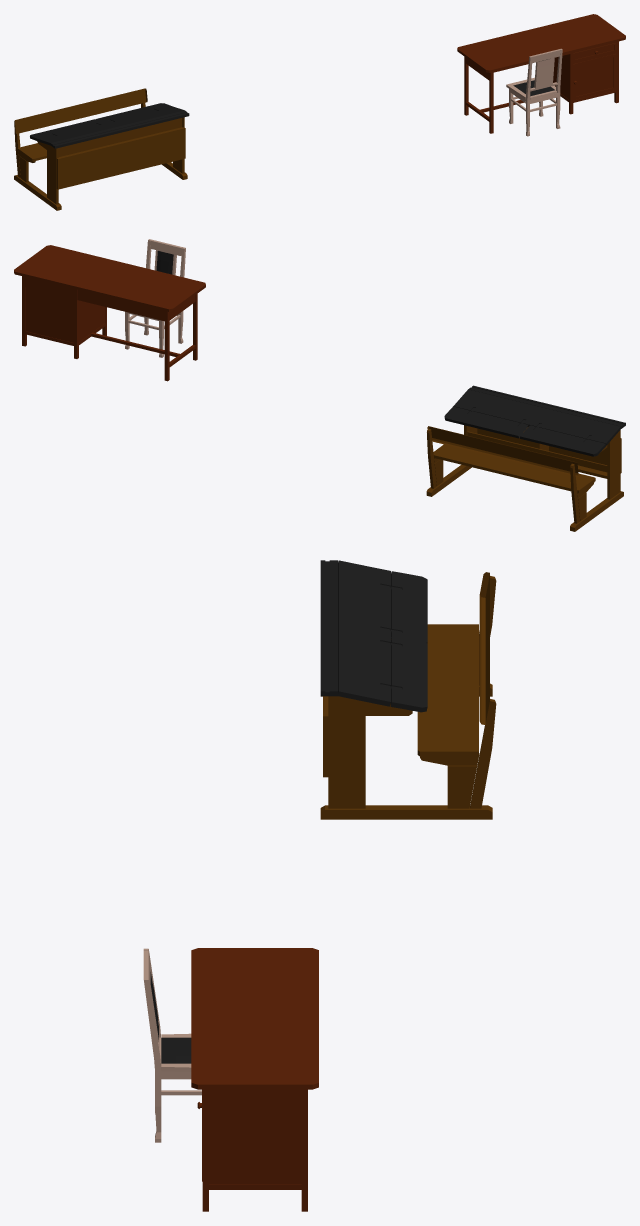
File: newRASST.glb
3 renders of one model, top to bottom at view 1: azimuth 30°, elevation 25°; view 2: azimuth 150°, elevation 25°; view 3: azimuth 270°, elevation 25°, orthographic. The views are drawn at different scales.
Visible parts, largest first — view 1: Плоскость.006, Плоскость.019, Плоскость.032; view 2: Плоскость.006, Плоскость.019, Плоскость.032; view 3: Плоскость.006, Плоскость.019, Плоскость.032.
Part boxes in pixels (left/top/right/bottom): Плоскость.006: left=14, top=88, right=189, bottom=210; Плоскость.019: left=457, top=14, right=625, bottom=133; Плоскость.032: left=506, top=48, right=562, bottom=136; Плоскость.006: left=426, top=385, right=625, bottom=531; Плоскость.019: left=14, top=245, right=205, bottom=381; Плоскость.032: left=125, top=239, right=185, bottom=357; Плоскость.006: left=320, top=560, right=496, bottom=819; Плоскость.019: left=191, top=948, right=318, bottom=1211; Плоскость.032: left=143, top=948, right=201, bottom=1142.
Bounding box in the file's own units: 23.45 × 3.37 × 6.62.
